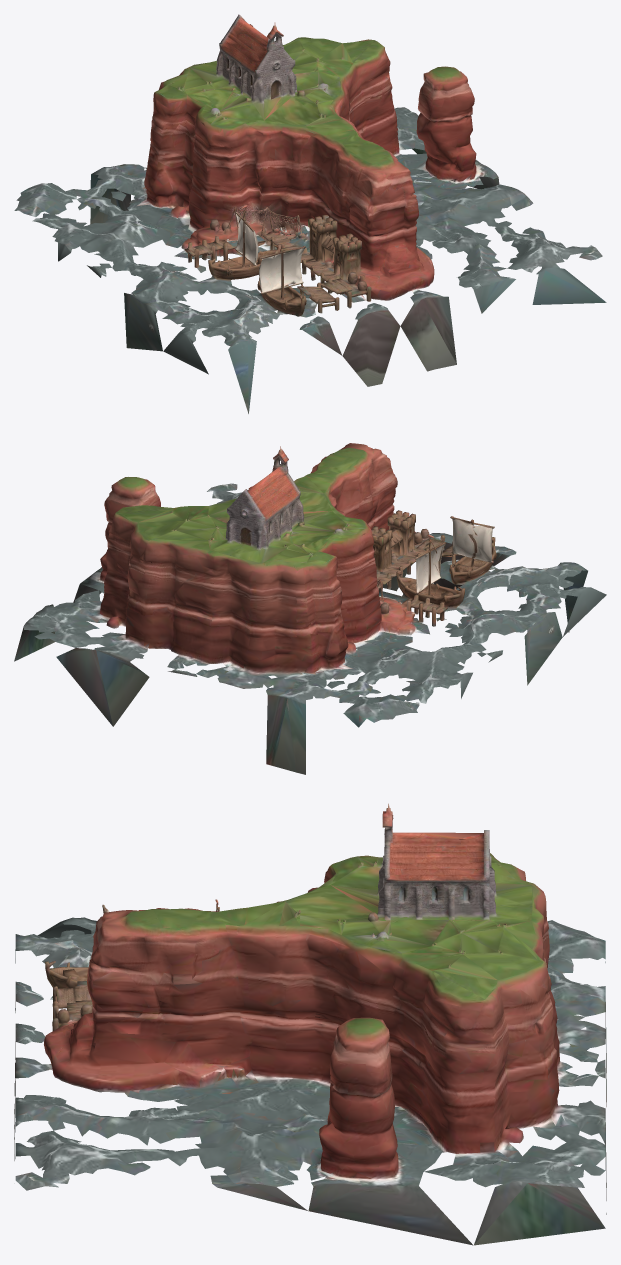
Rendered from m_heligoland_animated.glb.
3 renders of one model, top to bottom at view 1: azimuth 30°, elevation 25°; view 2: azimuth 150°, elevation 25°; view 3: azimuth 270°, elevation 25°, orthographic. The views are drawn at different scales.
Visible parts, largest first — view 1: m_heligoland_Living_Scenery; view 2: m_heligoland_Living_Scenery; view 3: m_heligoland_Living_Scenery.
Part boxes in pixels (x1,y1,x2,y2): m_heligoland_Living_Scenery: (14, 14, 606, 413); m_heligoland_Living_Scenery: (14, 443, 606, 774); m_heligoland_Living_Scenery: (14, 803, 606, 1245).
Bounding box in the file's own units: 1 × 0.6147 × 0.9376.
Materials: 1 (1 with a texture image).
